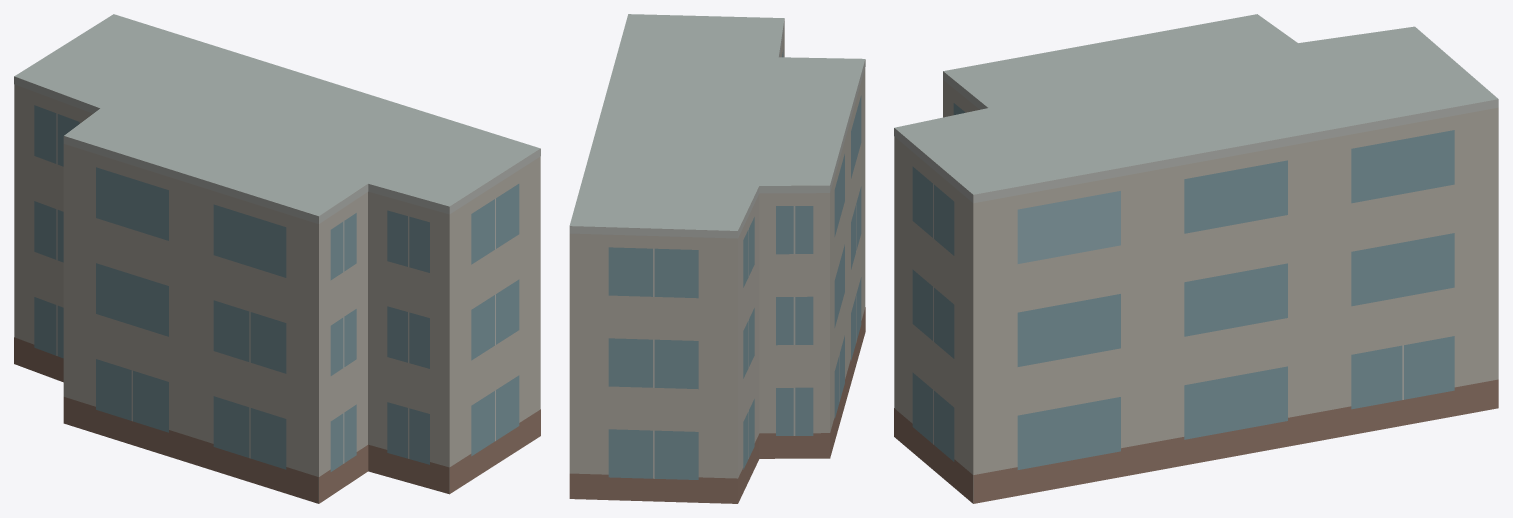
The model's file is survey-upis-33042105.glb.
The picture shows the model from 3 angles, left to right: view 1: azimuth 30°, elevation 25°; view 2: azimuth 150°, elevation 25°; view 3: azimuth 270°, elevation 25°; orthographic projection. The views are drawn at different scales.
Parts seen in each view (by area): view 1: survey-upis-33042105.tmp; view 2: survey-upis-33042105.tmp; view 3: survey-upis-33042105.tmp.
Part boxes in pixels (x1,y1,x2,y2): survey-upis-33042105.tmp: [14, 14, 540, 503]; survey-upis-33042105.tmp: [569, 14, 865, 503]; survey-upis-33042105.tmp: [894, 14, 1498, 503].
Size of the model in its own units: 11.18 by 8.9 by 15.79.
